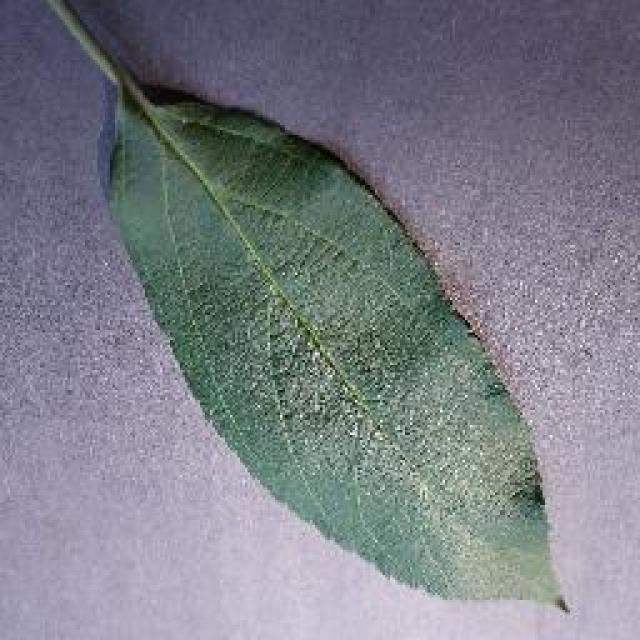apple healthy: (100, 80, 570, 612)
